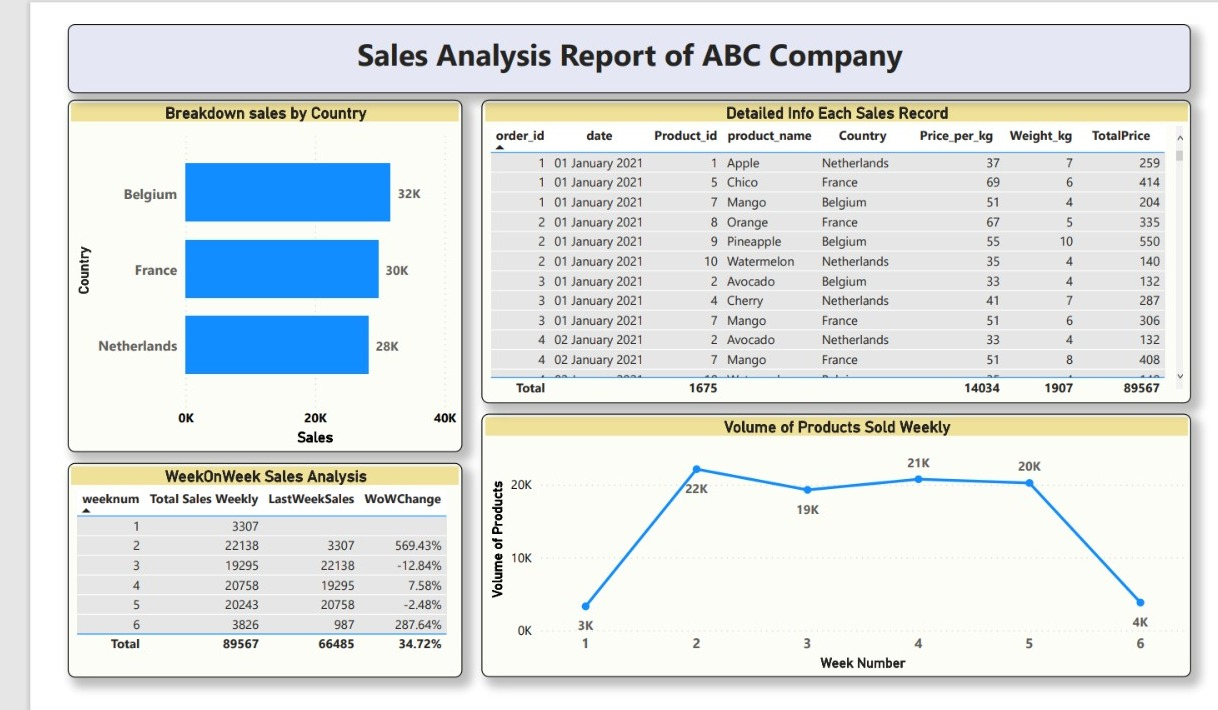

What the dashboard file says about the page in this screenshot:
{"tool":"powerbi","page":{"name":"Page 1","canvas":[1280,720],"ordinal":0},"visuals":[{"type":"barChart","title":"Breakdown sales by Country","fields":{"Y":["Sum(Append1.TotalPrice)"],"Category":["Append1.Country"]},"box":[16.5,80.9,421.2,375.9],"z":0},{"type":"lineChart","title":"Volume of Products Sold Weekly","fields":{"Category":["Datemaster.weeknum"],"Y":["Sum(Append1.TotalPrice)"]},"box":[456.8,415.7,757.3,281.2],"z":1000},{"type":"tableEx","title":"WeekOnWeek Sales Analysis","fields":{"Values":["Datemaster.weeknum","Sum(Append1.TotalPrice)","Append1.LLLastWeekSales","Append1.WoWChange"]},"box":[16.5,467.8,421.2,229.1],"z":2000},{"type":"tableEx","title":"Detailed Info Each Sales Record","fields":{"Values":["Append1.order_id","Append1.date","Sum(Append1.product_id)","Append1.product_name","Append1.Country","Sum(Append1.price_per_kg)","Sum(Append1.weight_kg)","Sum(Append1.TotalPrice)"]},"box":[456.8,80.9,757.3,323.8],"z":3000},{"type":"textbox","box":[16.5,0,1197.7,74.1],"z":4000}]}

Visuals, with their boxes in screenshot pixels (x1, y1, x2, y2):
"Breakdown sales by Country" barChart: crop(63, 95, 458, 448)
"Volume of Products Sold Weekly" lineChart: crop(476, 409, 1187, 673)
"WeekOnWeek Sales Analysis" tableEx: crop(63, 458, 458, 673)
"Detailed Info Each Sales Record" tableEx: crop(476, 95, 1187, 399)
textbox: crop(63, 19, 1187, 89)
